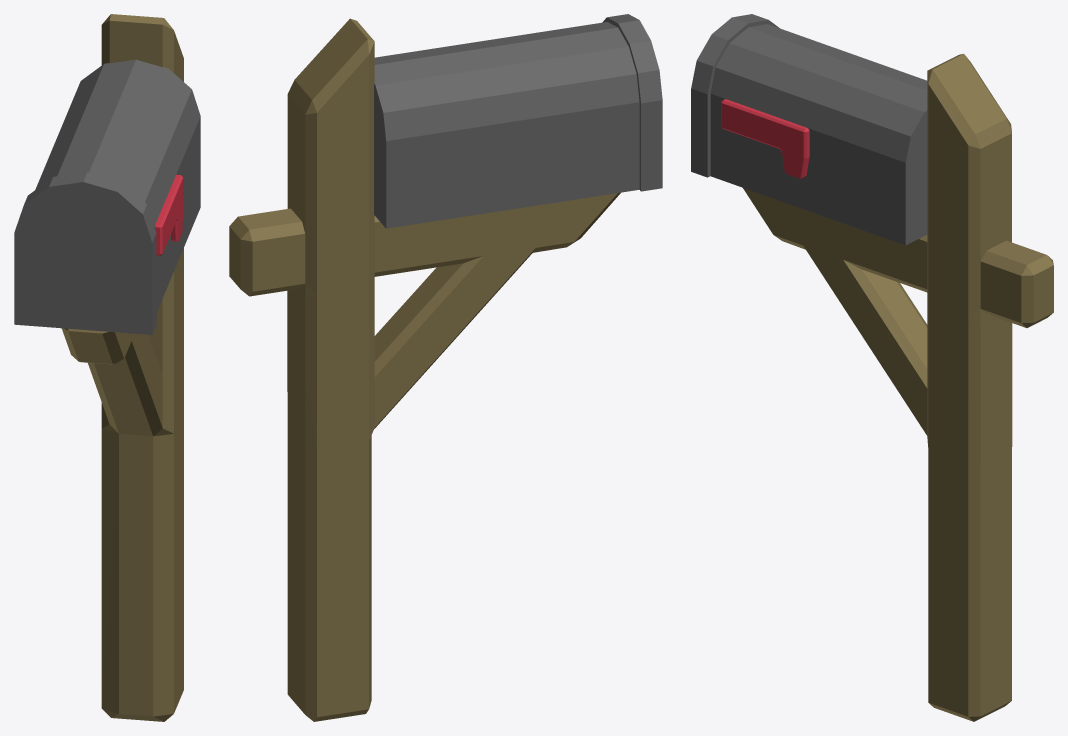
File: mailbox.FBX
The picture shows the model from 3 angles, left to right: view 1: azimuth 30°, elevation 25°; view 2: azimuth 150°, elevation 25°; view 3: azimuth 270°, elevation 25°; orthographic projection. The views are drawn at different scales.
Visible parts, largest first — view 1: mailbox; view 2: mailbox; view 3: mailbox.
Part boxes in pixels (bbox=[...]): mailbox: bbox=[14, 14, 200, 721]; mailbox: bbox=[229, 14, 662, 721]; mailbox: bbox=[691, 14, 1053, 721].
Size of the model in its own units: 72.94 by 159 by 81.81.
Materials: 1 (1 with a texture image).
